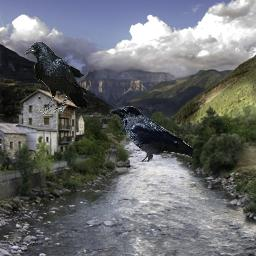Crow: (23, 41, 87, 115), (109, 106, 193, 162)
